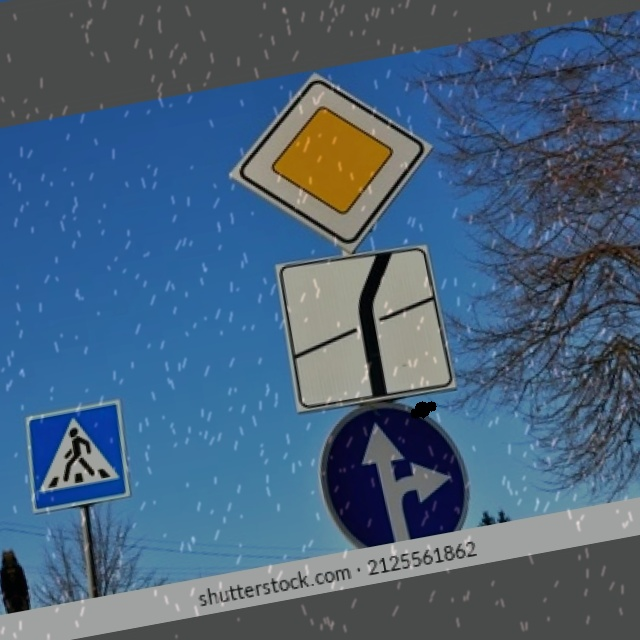Compulsory_Ahead_or_Turn_Right: (315, 395, 476, 551)
